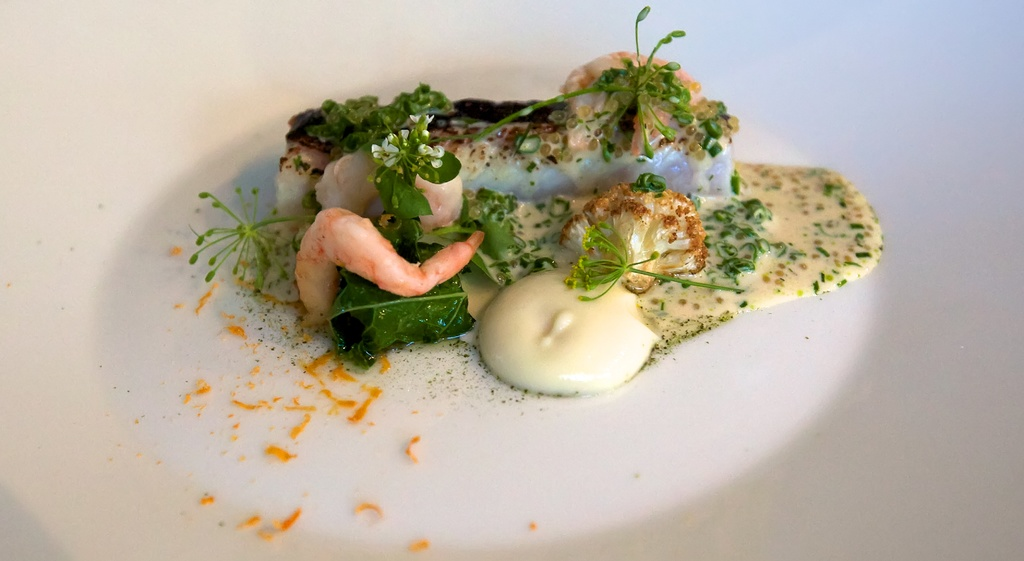salad: (180, 0, 886, 398)
